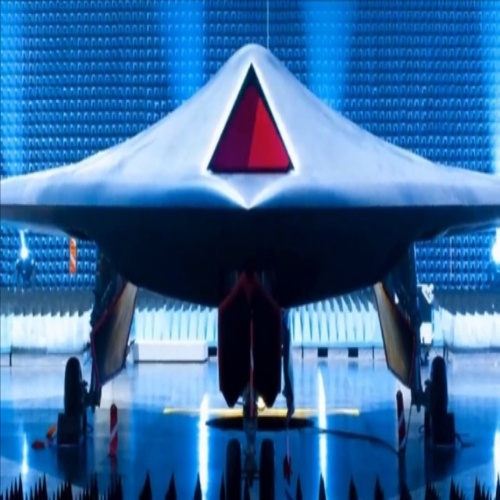uav975: (1, 39, 497, 452)
